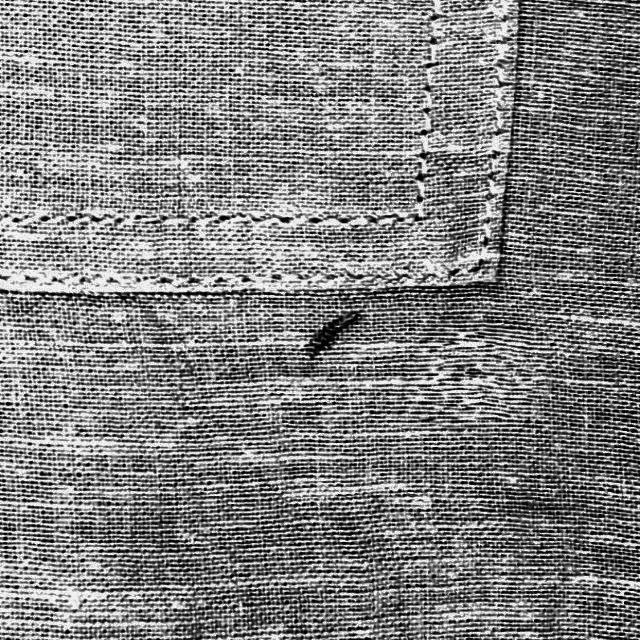Foreign_yarn: (292, 298, 384, 378)
